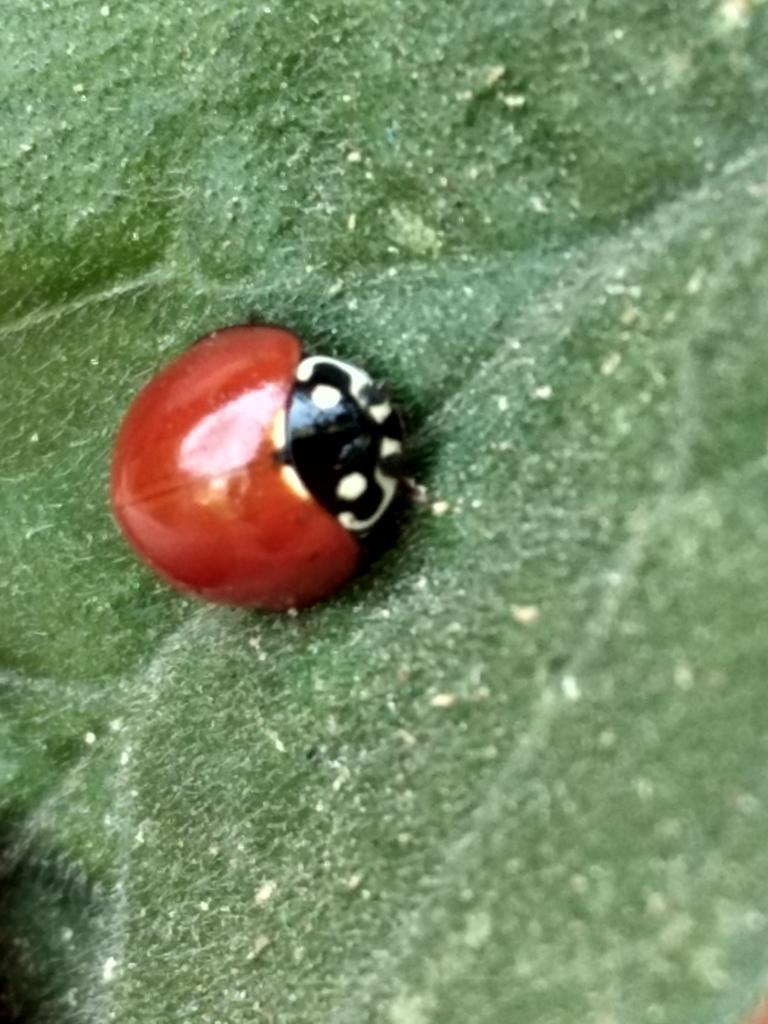ladybug: (106, 309, 421, 619)
